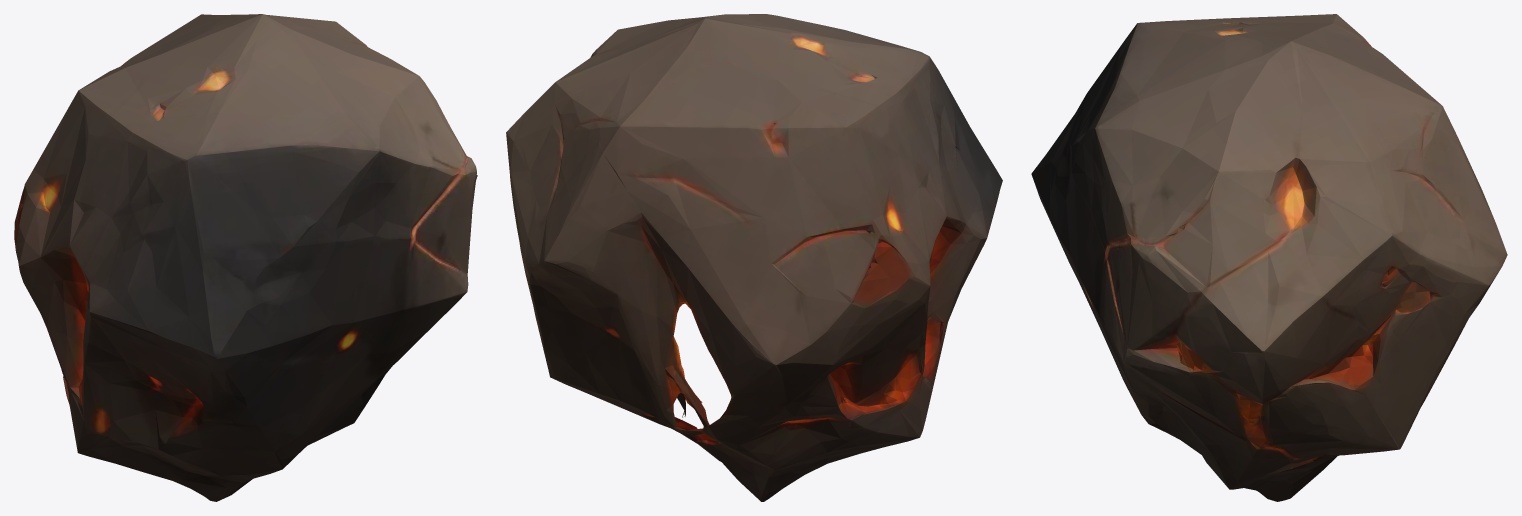
File: threat-asteroid-ai.glb
3 views of the same model, side by side, from view 1: azimuth 30°, elevation 25°; view 2: azimuth 150°, elevation 25°; view 3: azimuth 270°, elevation 25° (orthographic). The views are drawn at different scales.
Visible parts, largest first — view 1: geometry_0; view 2: geometry_0; view 3: geometry_0.
Part boxes in pixels (x1,y1,x2,y2): geometry_0: (14,14,477,501); geometry_0: (506,14,1002,501); geometry_0: (1031,14,1507,501).
Size of the model in its own units: 0.9691 by 0.9999 by 0.8853.
Materials: 1 (1 with a texture image).
